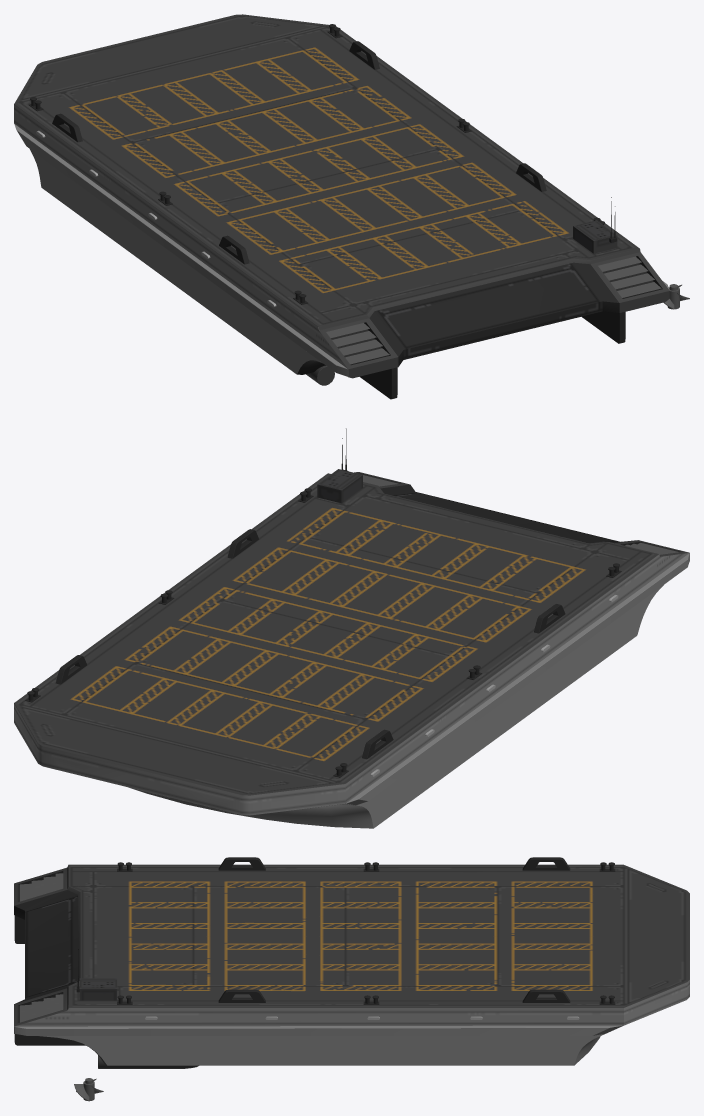
File: barge.fbx
3 views of the same model, one above another, from view 1: azimuth 30°, elevation 25°; view 2: azimuth 150°, elevation 25°; view 3: azimuth 270°, elevation 25° (orthographic). The views are drawn at different scales.
Parts seen in each view (by area): view 1: barge; view 2: barge; view 3: barge, barge_propeller.
Part boxes in pixels (x1=…): barge: x1=14, y1=14, x2=669, y2=399; barge: x1=14, y1=428, x2=689, y2=828; barge: x1=14, y1=857, x2=689, y2=1068; barge_propeller: x1=74, y1=1078, x2=103, y2=1101.
Bounding box in the file's own units: 3607 × 1168 × 5993.
1 material, 1 textured.
